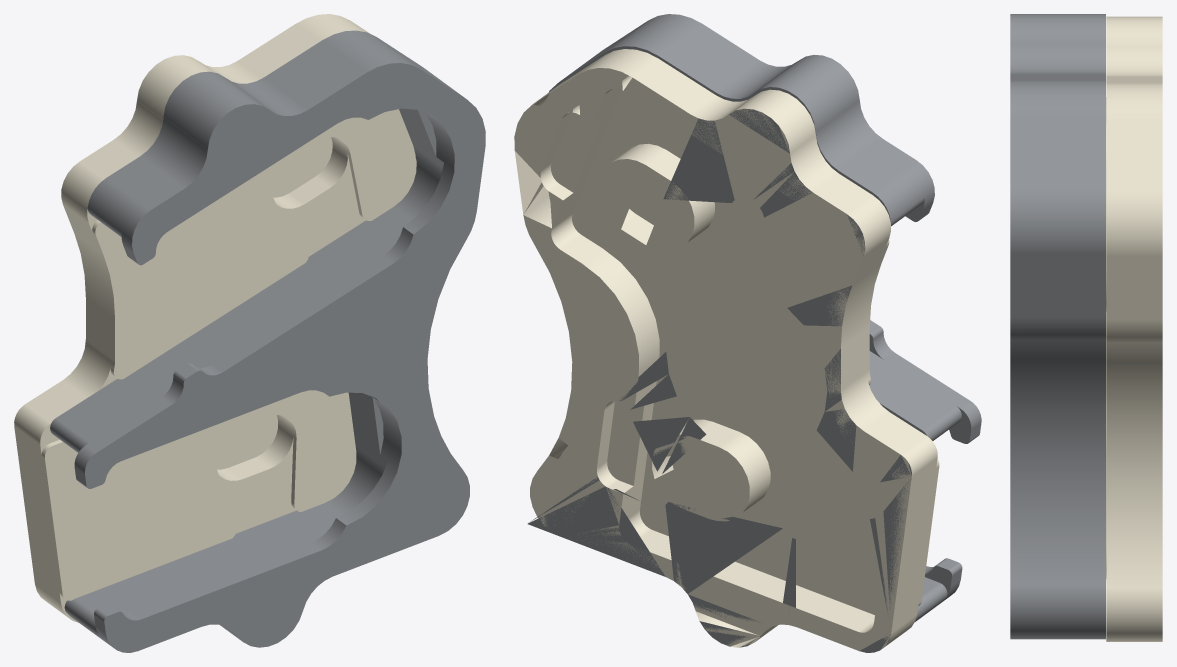
The model's file is formulatrix_mantis_right_chip_rack.glb.
3 views of the same model, side by side, from view 1: azimuth 30°, elevation 25°; view 2: azimuth 150°, elevation 25°; view 3: azimuth 270°, elevation 25° (orthographic). The views are drawn at different scales.
Bounding box in the file's own units: 44.42 × 58.85 × 13.53.
